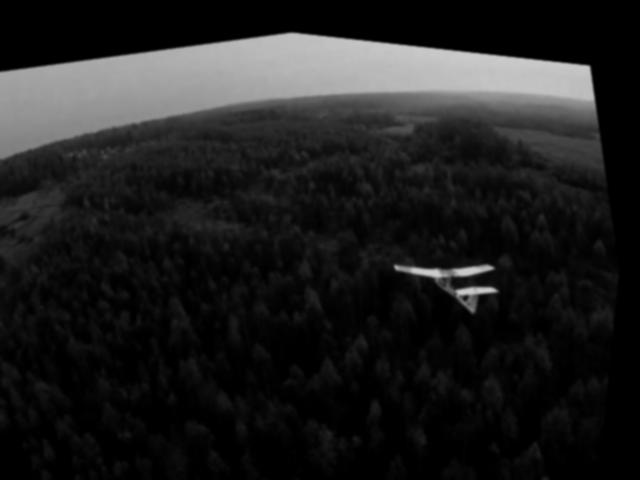hedef: (386, 218, 519, 333)
